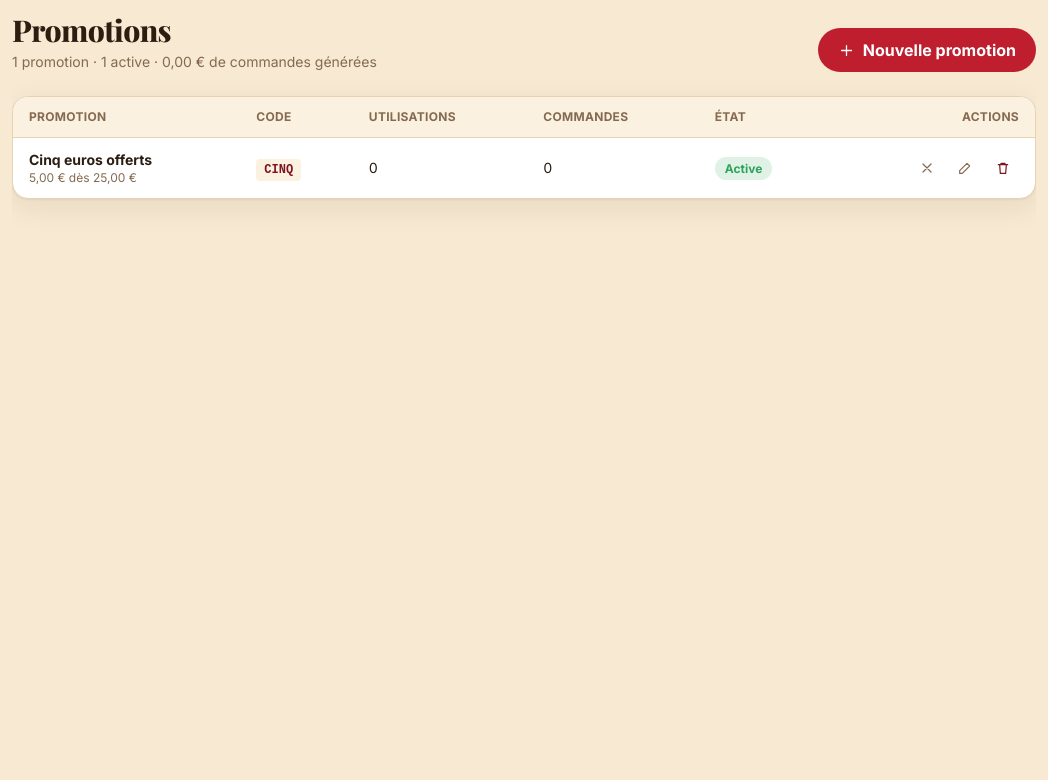
Test: Promotions — un montant déjà enregistré › s'affiche avec sa virgule, telle que `toEuros` la produit
Click the button named "Modifier".
click(965, 168)  # box top-left (949, 152), bottom-right (981, 184)
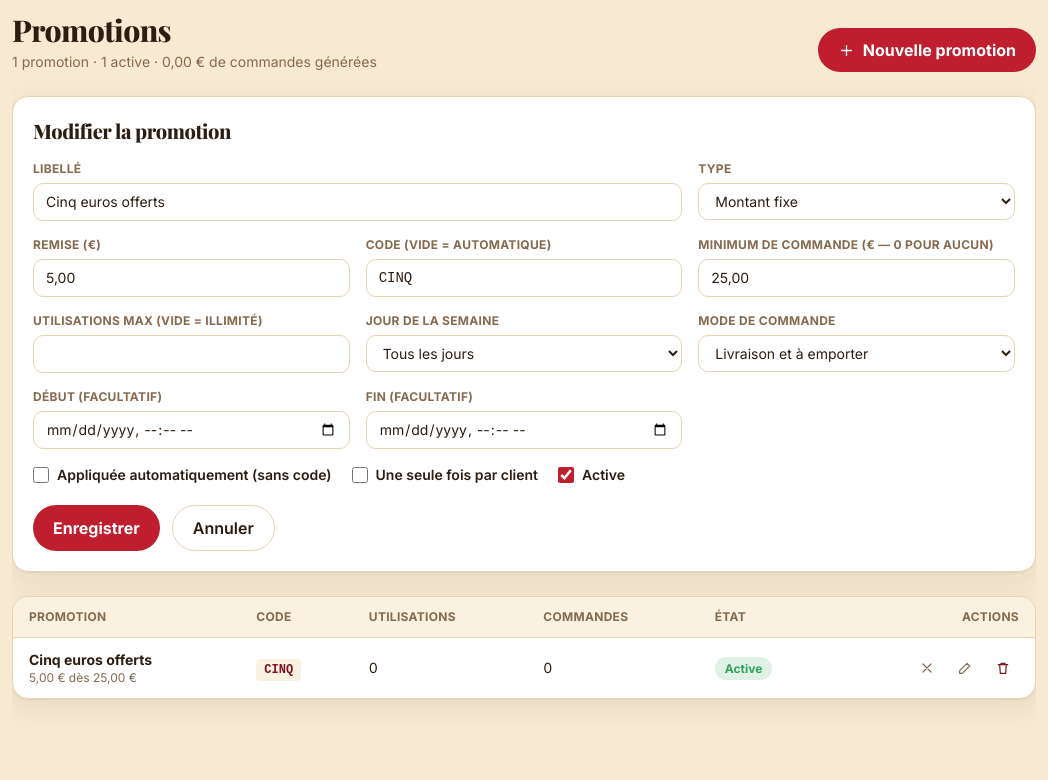
expect the field with placeholder "5,00" holds "5,00": met, box top-left (33, 259), bottom-right (350, 297)
expect the field with placeholder "25,00" holds "25,00": met, box top-left (698, 259), bottom-right (1015, 297)
